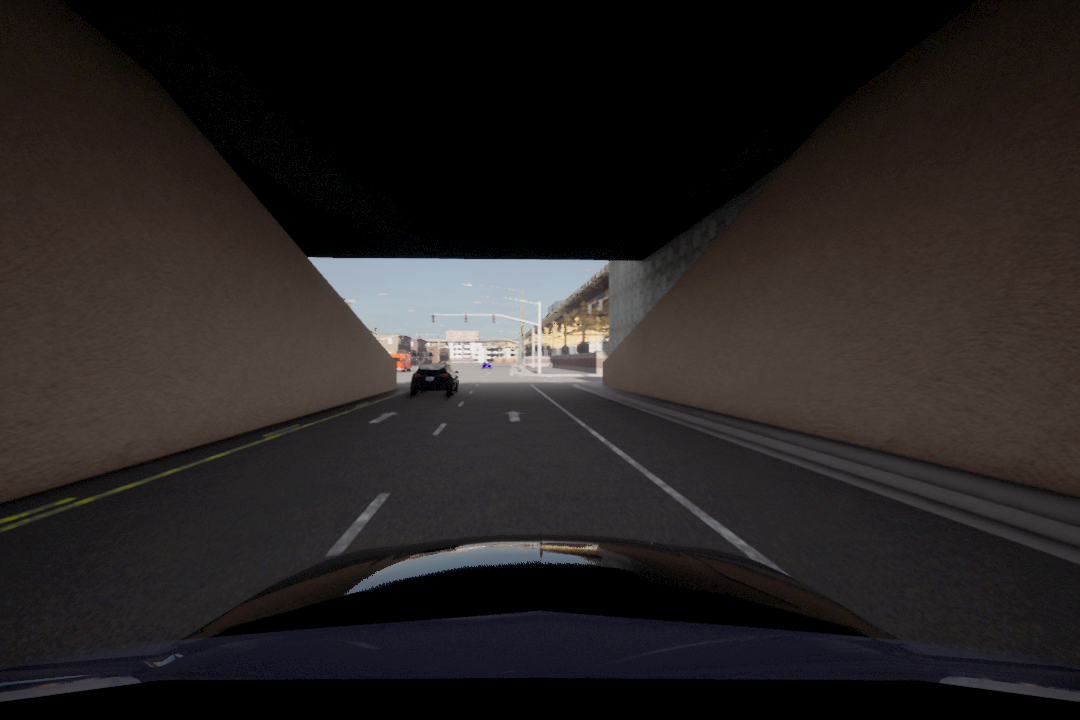RoadSign_forward: (370, 407, 404, 429), (503, 404, 525, 429)
